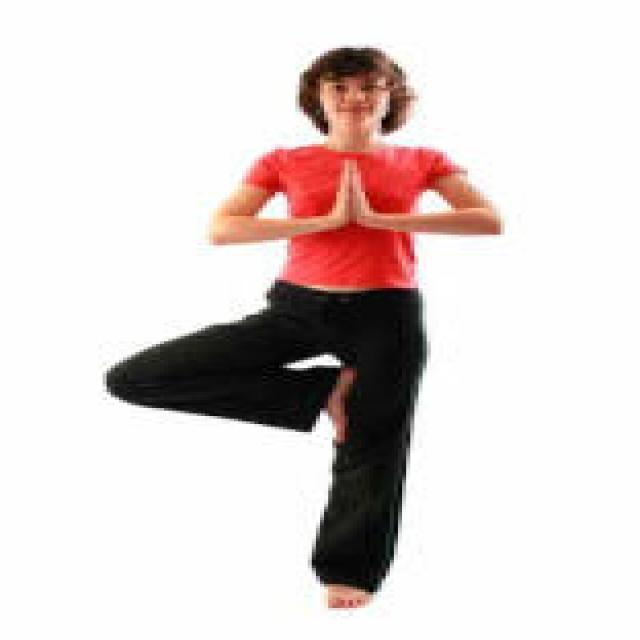yoga-pose tree: (102, 43, 497, 612)
